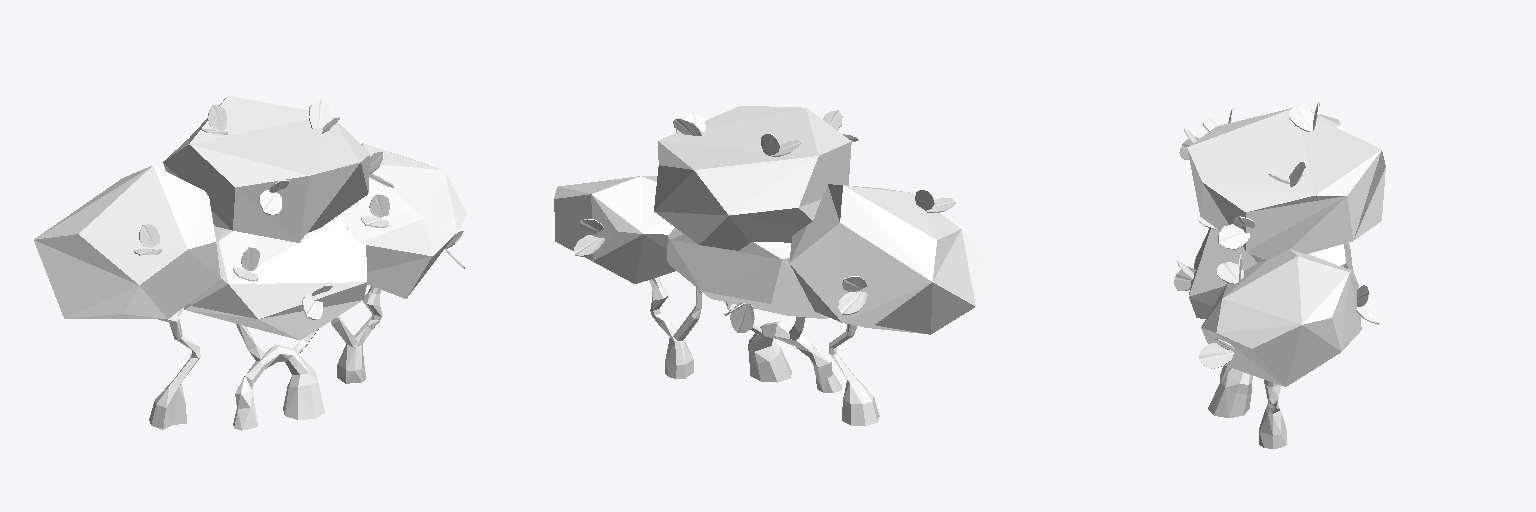
Rendered from bush_03.obj.
3 views of the same model, side by side, from view 1: azimuth 30°, elevation 25°; view 2: azimuth 150°, elevation 25°; view 3: azimuth 270°, elevation 25° (orthographic).
Size of the model in its own units: 1.72 by 1.17 by 0.7916.